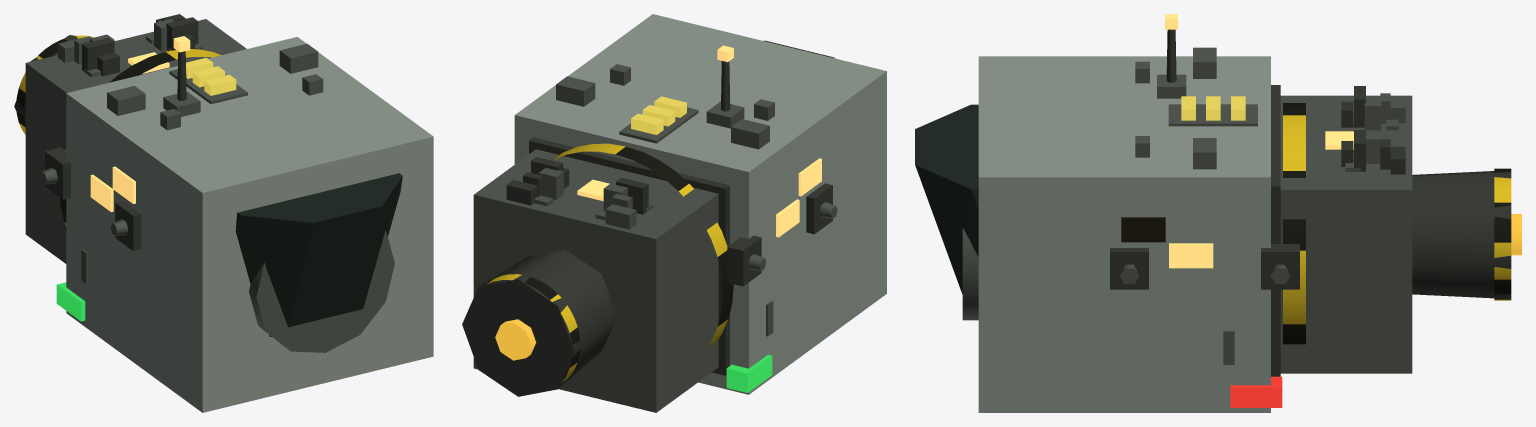
File: escape_pod-l(1).glb
The picture shows the model from 3 angles, left to right: view 1: azimuth 30°, elevation 25°; view 2: azimuth 150°, elevation 25°; view 3: azimuth 270°, elevation 25°; orthographic projection. The views are drawn at different scales.
Parts seen in each view (by area): view 1: hullNose, cockpitGlass, aftPlug, dockingRing, rcsQuad2, escapePodShipGreebleTop0R, rcsQuad0, escapePodShipGreebleTop0L, escapePodShipAftGreeble3L, navLightStarboard, separationCautionSeg5, iffPlinthDorsal (+11 smaller); view 2: hullNose, aftPlug, engineHousing, separationCollar, rcsQuad2, engineGlow, navLightStarboard, escapePodShipGreebleTop0R, rcsQuad0, separationCautionSeg5, escapePodShipGreebleTop0L, iffPlinthDorsal (+17 smaller); view 3: hullNose, aftPlug, engineHousing, cockpitGlass, separationCollar, rcsQuad3, iffPlinthDorsal, rcsQuad1, dockingRing, navLightPort, separationCautionSeg4, escapePodShipHullWindow1R (+7 smaller).
Boxes of the visible parts, x1=… form: hullNose: x1=66, y1=37, x2=433, y2=412; cockpitGlass: x1=235, y1=173, x2=402, y2=336; aftPlug: x1=25, y1=19, x2=246, y2=263; dockingRing: x1=249, y1=230, x2=394, y2=352; rcsQuad2: x1=45, y1=147, x2=70, y2=199; escapePodShipGreebleTop0R: x1=279, y1=43, x2=318, y2=73; rcsQuad0: x1=115, y1=201, x2=141, y2=251; escapePodShipGreebleTop0L: x1=107, y1=86, x2=145, y2=115; escapePodShipAftGreeble3L: x1=82, y1=38, x2=114, y2=71; navLightStarboard: x1=56, y1=282, x2=85, y2=321; separationCautionSeg5: x1=110, y1=52, x2=175, y2=82; iffPlinthDorsal: x1=169, y1=69, x2=247, y2=104; hullNose: x1=514, y1=14, x2=886, y2=394; aftPlug: x1=473, y1=149, x2=718, y2=412; engineHousing: x1=462, y1=249, x2=616, y2=396; separationCollar: x1=529, y1=137, x2=729, y2=375; rcsQuad2: x1=727, y1=235, x2=761, y2=286; engineGlow: x1=495, y1=319, x2=536, y2=360; navLightStarboard: x1=726, y1=354, x2=772, y2=392; escapePodShipGreebleTop0R: x1=556, y1=76, x2=595, y2=106; rcsQuad0: x1=806, y1=183, x2=832, y2=234; separationCautionSeg5: x1=615, y1=146, x2=688, y2=190; escapePodShipGreebleTop0L: x1=731, y1=119, x2=769, y2=149; iffPlinthDorsal: x1=619, y1=107, x2=698, y2=143; hullNose: x1=978, y1=56, x2=1270, y2=412; aftPlug: x1=1280, y1=95, x2=1412, y2=373; engineHousing: x1=1412, y1=171, x2=1511, y2=298; cockpitGlass: x1=915, y1=104, x2=978, y2=313; separationCollar: x1=1271, y1=85, x2=1280, y2=376; rcsQuad3: x1=1261, y1=244, x2=1299, y2=289; iffPlinthDorsal: x1=1168, y1=104, x2=1257, y2=126; rcsQuad1: x1=1110, y1=248, x2=1148, y2=289; dockingRing: x1=962, y1=228, x2=978, y2=320; navLightPort: x1=1230, y1=376, x2=1282, y2=407; separationCautionSeg4: x1=1283, y1=115, x2=1305, y2=170; escapePodShipHullWindow1R: x1=1121, y1=217, x2=1165, y2=242.
Bounding box in the file's own units: 1.02 × 1.06 × 1.87.
